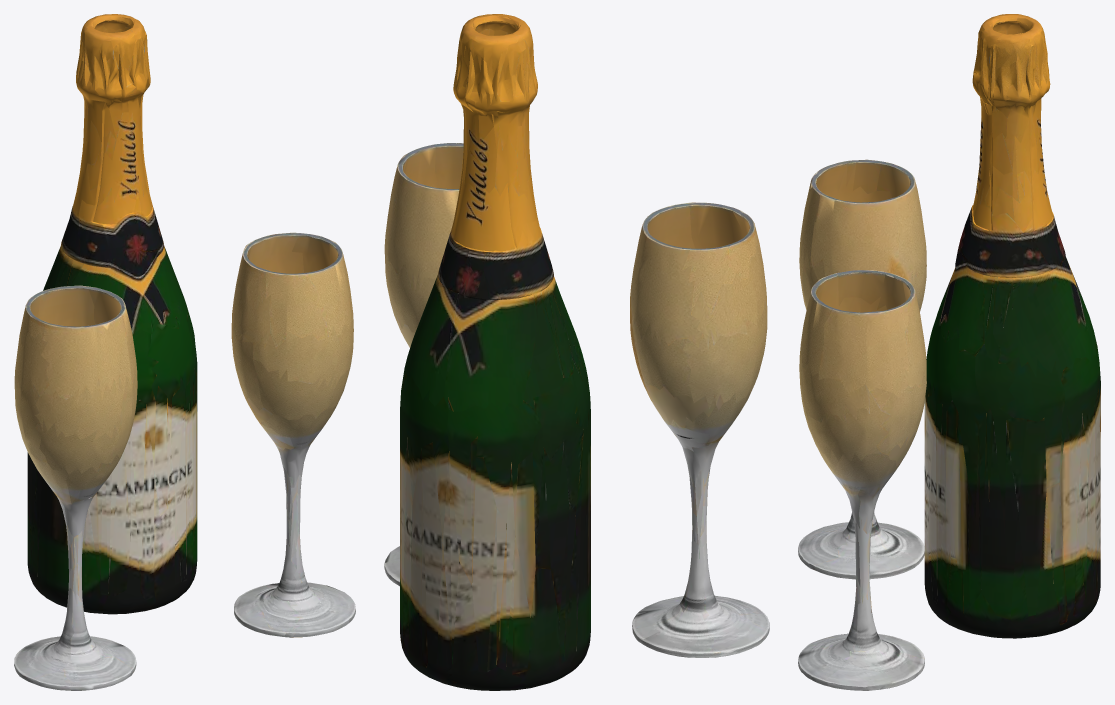
File: champagne.glb
The picture shows the model from 3 angles, left to right: view 1: azimuth 30°, elevation 25°; view 2: azimuth 150°, elevation 25°; view 3: azimuth 270°, elevation 25°; orthographic projection. The views are drawn at different scales.
Size of the model in its own units: 0.607 by 1 by 0.4698.
1 material, 1 textured.
